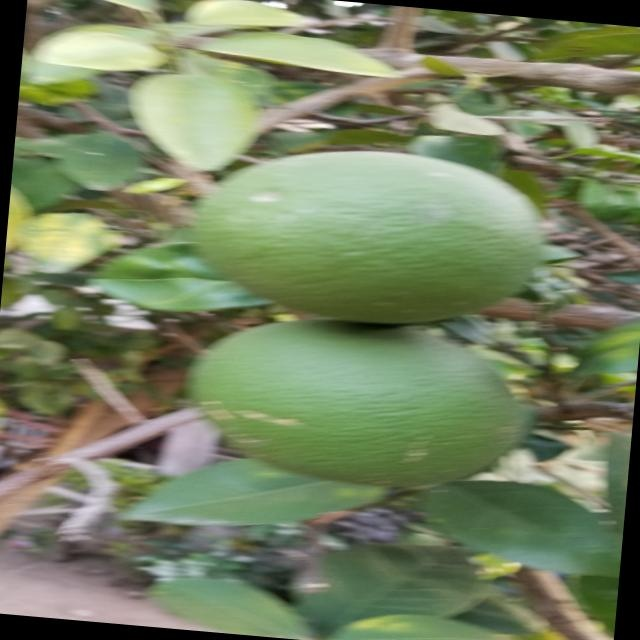agrume: (187, 133, 563, 340), (182, 297, 535, 497)
